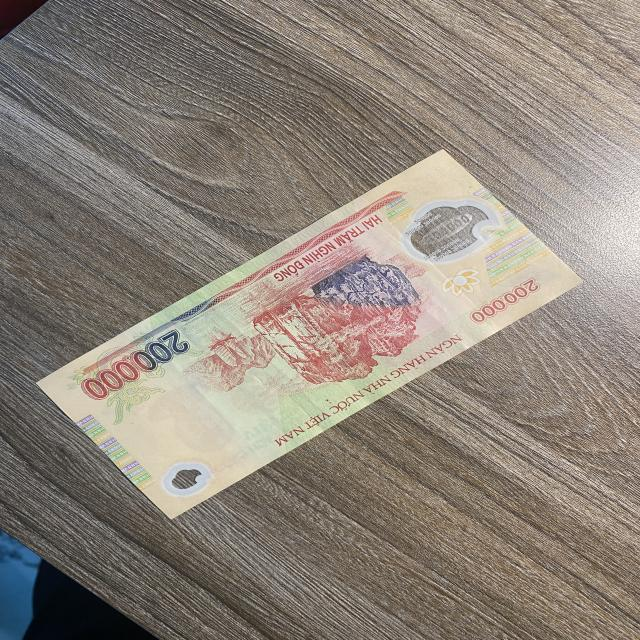200 000 VND: (34, 147, 588, 524)
